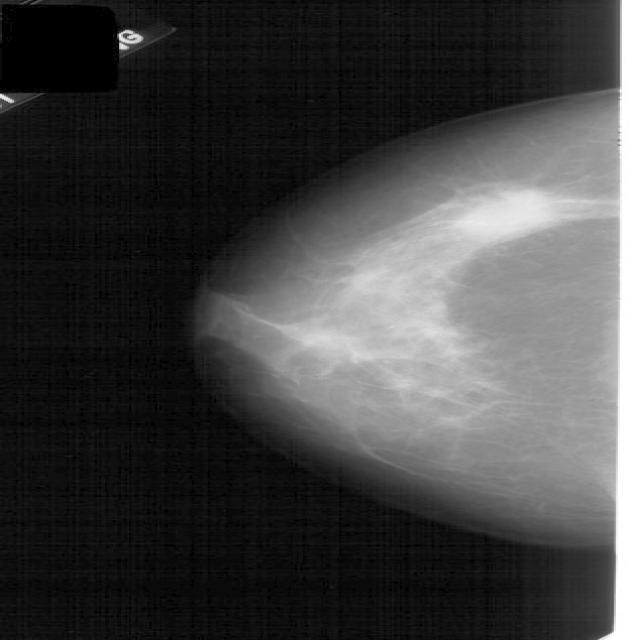tumour: (462, 186, 564, 234)
